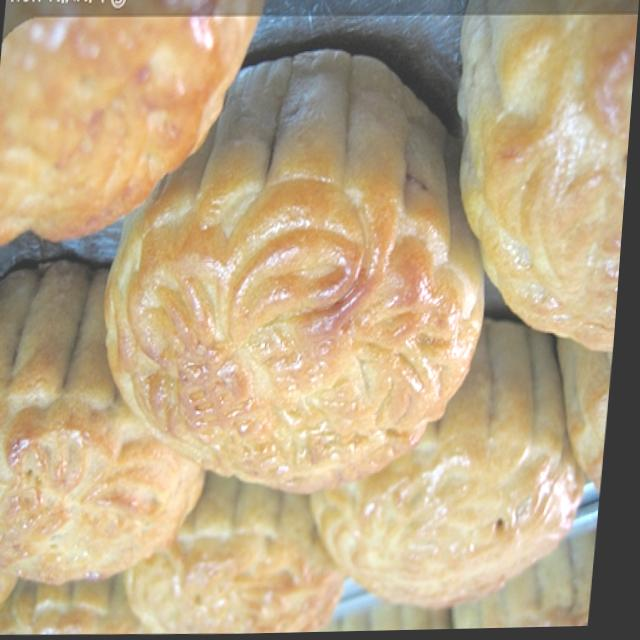蛋糕甜品: (34, 19, 568, 543)
